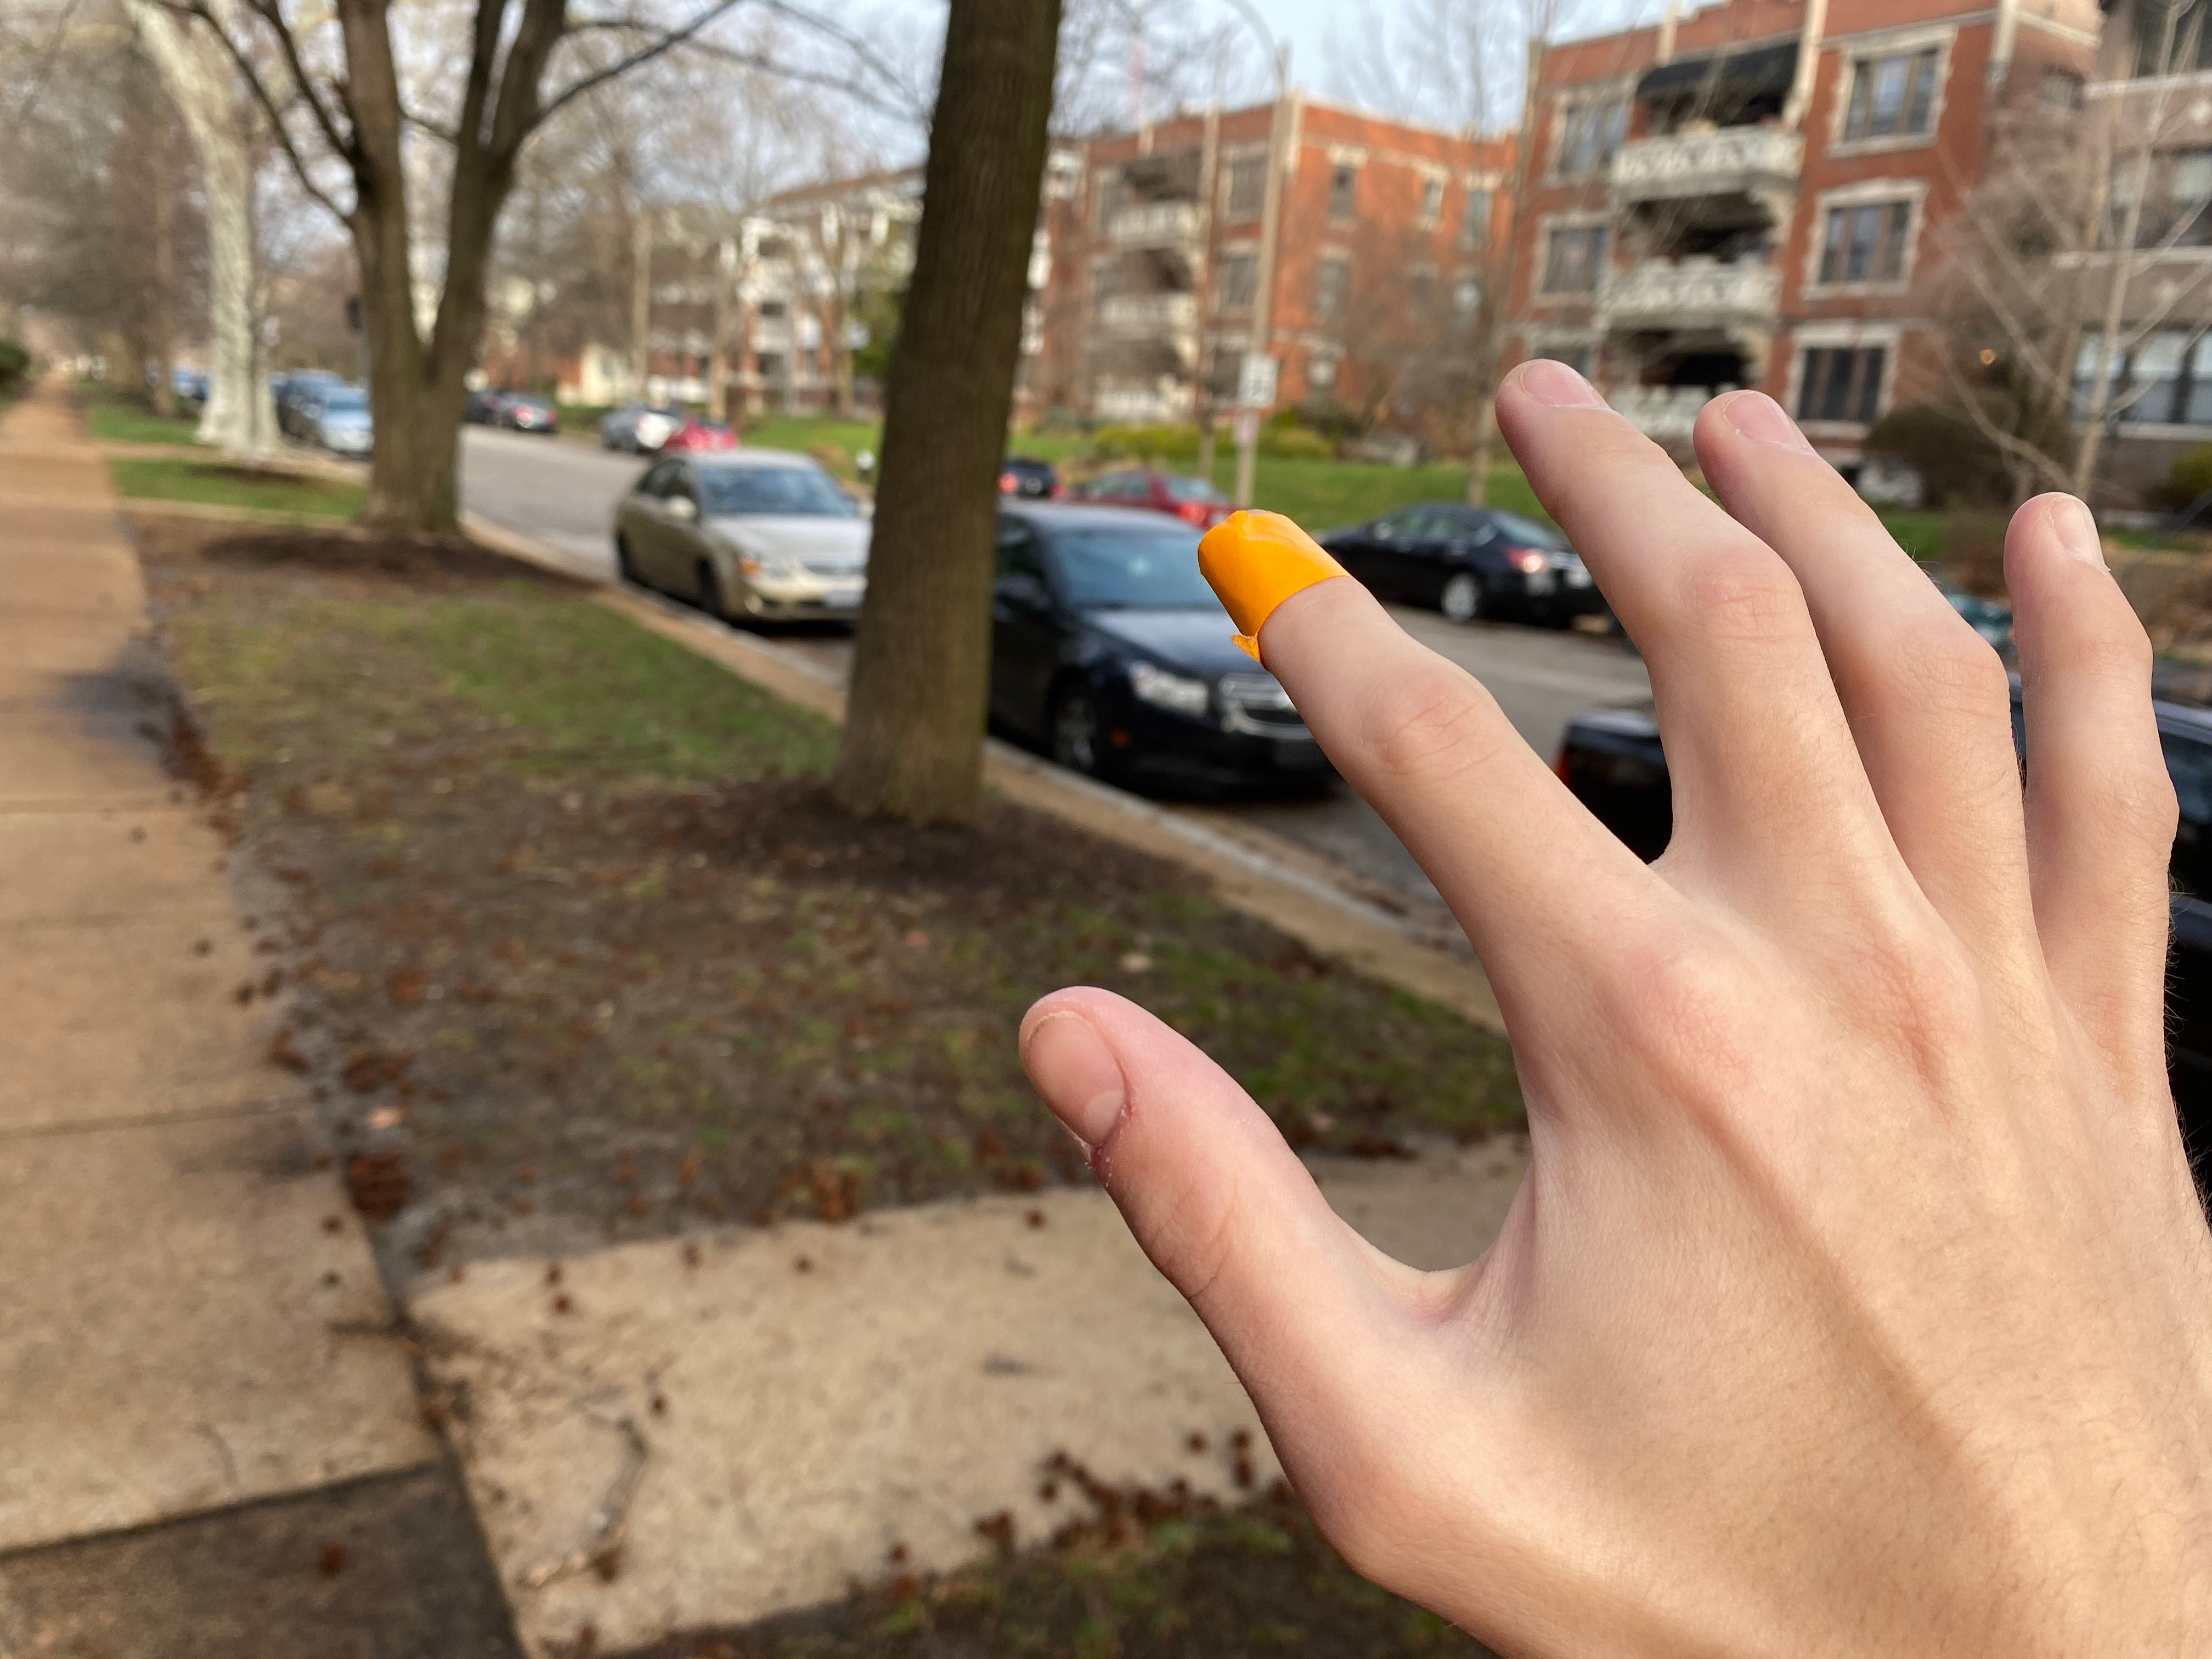fingertip: (1151, 467, 1413, 657)
